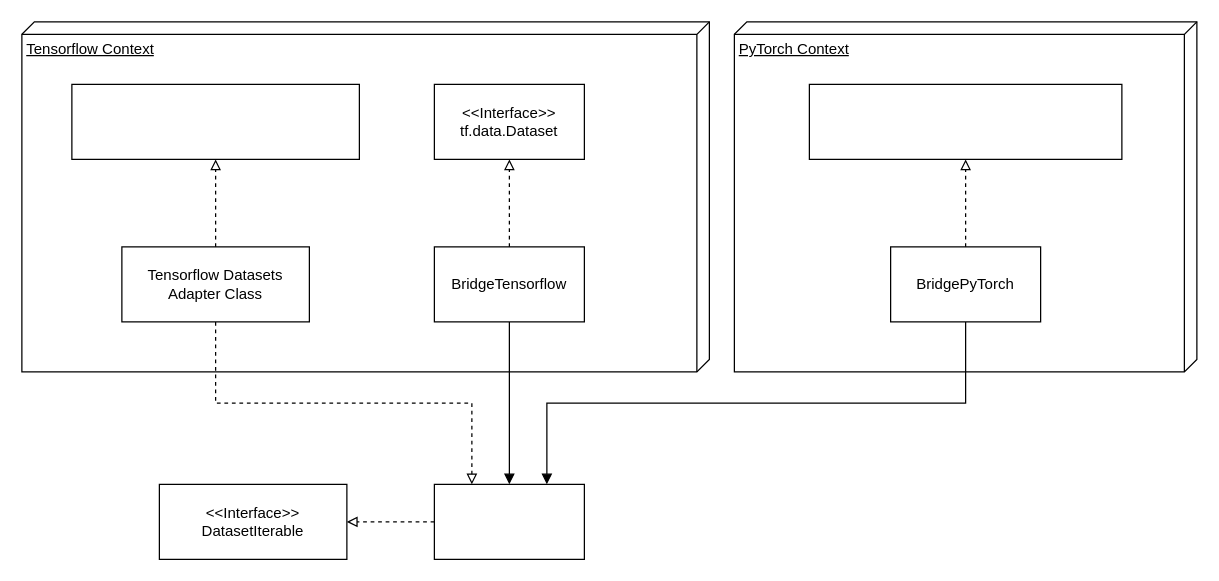
Image size: 1219x581. Some labels were removed from this diagram. Each missing label, with the centre of its shape:
<<Interface>> tfds.core.GeneratorBasedBuilder: point (215, 121)
<<Interface>> torch.utils.data.dataset.IterableDataset: point (965, 121)
Data Access Class: point (508, 521)
